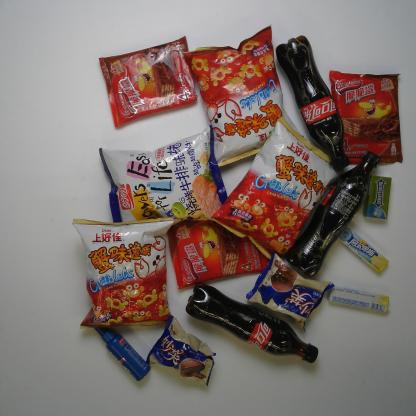Candy: (333, 218, 389, 276), (330, 274, 392, 318)
Dessert: (98, 35, 197, 127), (329, 60, 410, 164), (167, 210, 271, 286), (242, 250, 333, 329), (150, 317, 214, 387)
Drink: (284, 149, 379, 275), (186, 284, 328, 367), (276, 29, 351, 170)
Gum: (363, 173, 395, 221)
Personal Hygiene: (92, 323, 147, 384)
Puffed Food: (212, 118, 346, 256), (183, 23, 302, 169), (92, 128, 231, 230), (72, 212, 172, 330)
